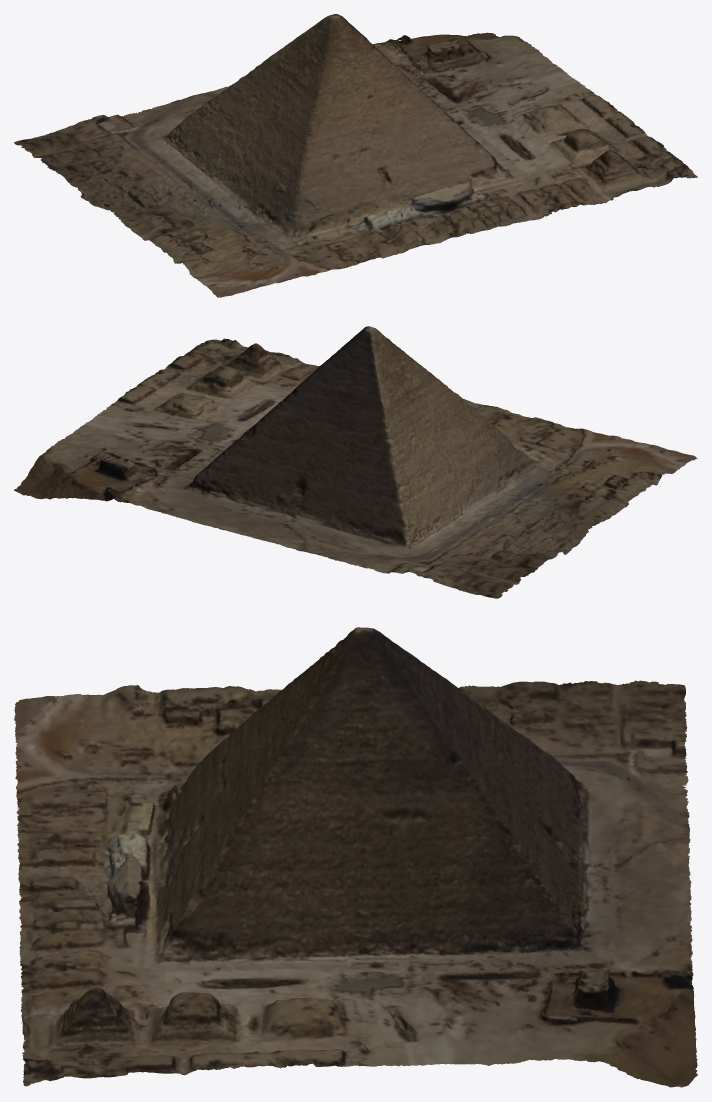
File: khufu.glb
3 renders of one model, top to bottom at view 1: azimuth 30°, elevation 25°; view 2: azimuth 150°, elevation 25°; view 3: azimuth 270°, elevation 25°, orthographic. The views are drawn at different scales.
Parts seen in each view (by area): view 1: mat-0; view 2: mat-0; view 3: mat-0.
Boxes of the visible parts, x1=… form: mat-0: x1=14, y1=14, x2=697, y2=297; mat-0: x1=14, y1=326, x2=697, y2=598; mat-0: x1=14, y1=627, x2=697, y2=1087.
Size of the model in its own units: 3.99 by 1.23 by 2.95.
Materials: 1 (1 with a texture image).
